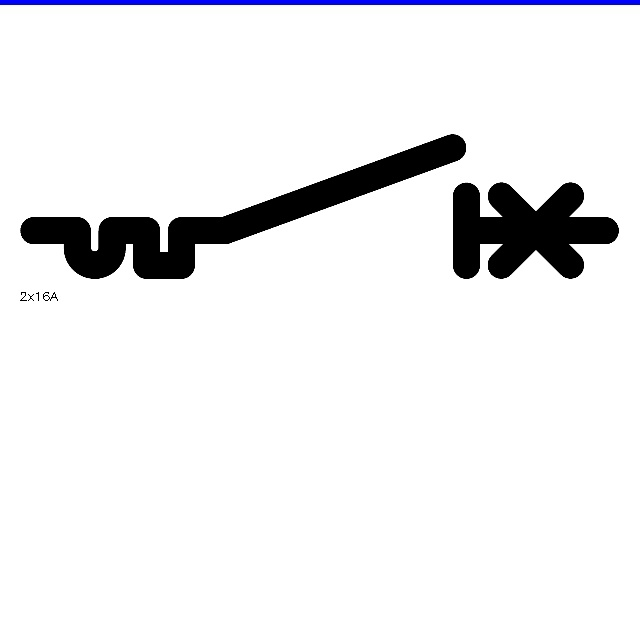interruptor_termomagnetico: (19, 133, 620, 280)
